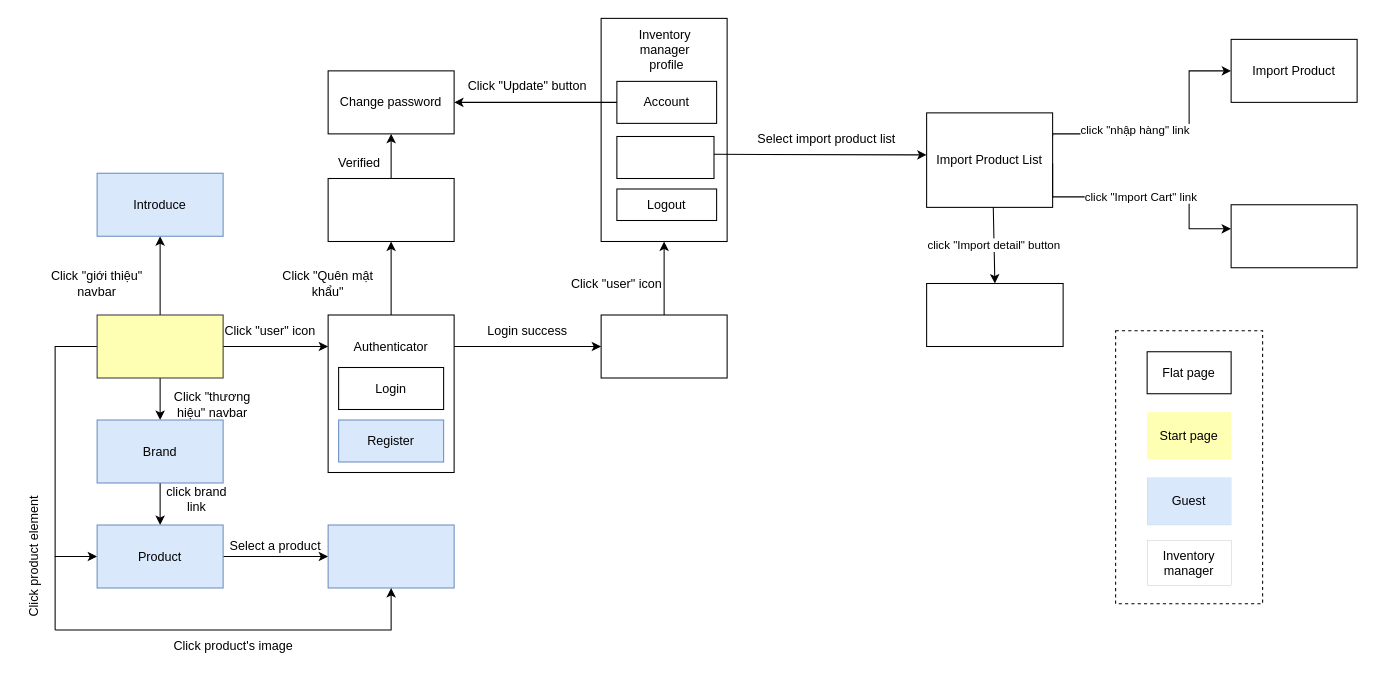
Image size: 1375x679. Some labels were removed from this diagram. Here are the shapes that lost their labels. From the top down, the centre of each, then its label:
At pixel 665 156: "Management".
At pixel 390 209: "Forgot password".
At pixel 1293 236: "Import Cart".
At pixel 994 314: "Import Detail".
At pixel 159 346: "Home Page".
At pixel 663 346: "Post Login".
At pixel 390 556: "Product Detail".
